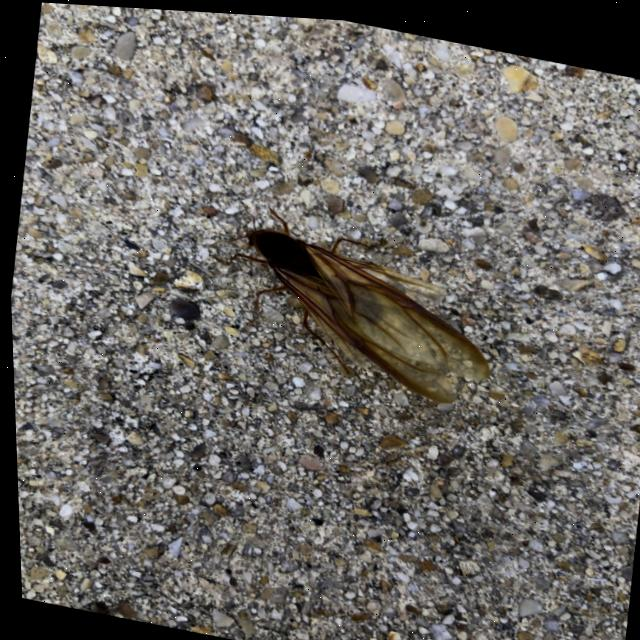Alive-Male-Alate: (189, 192, 506, 408)
